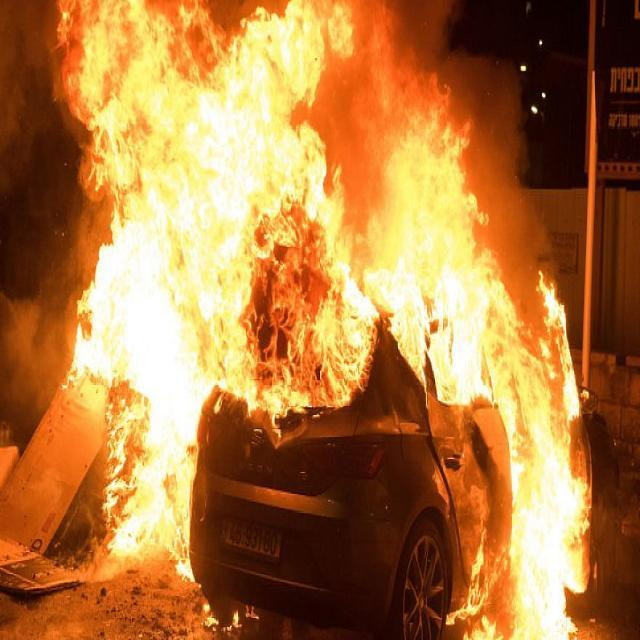Fire: (99, 17, 368, 399), (493, 271, 594, 640), (382, 131, 486, 410), (105, 413, 201, 582)
